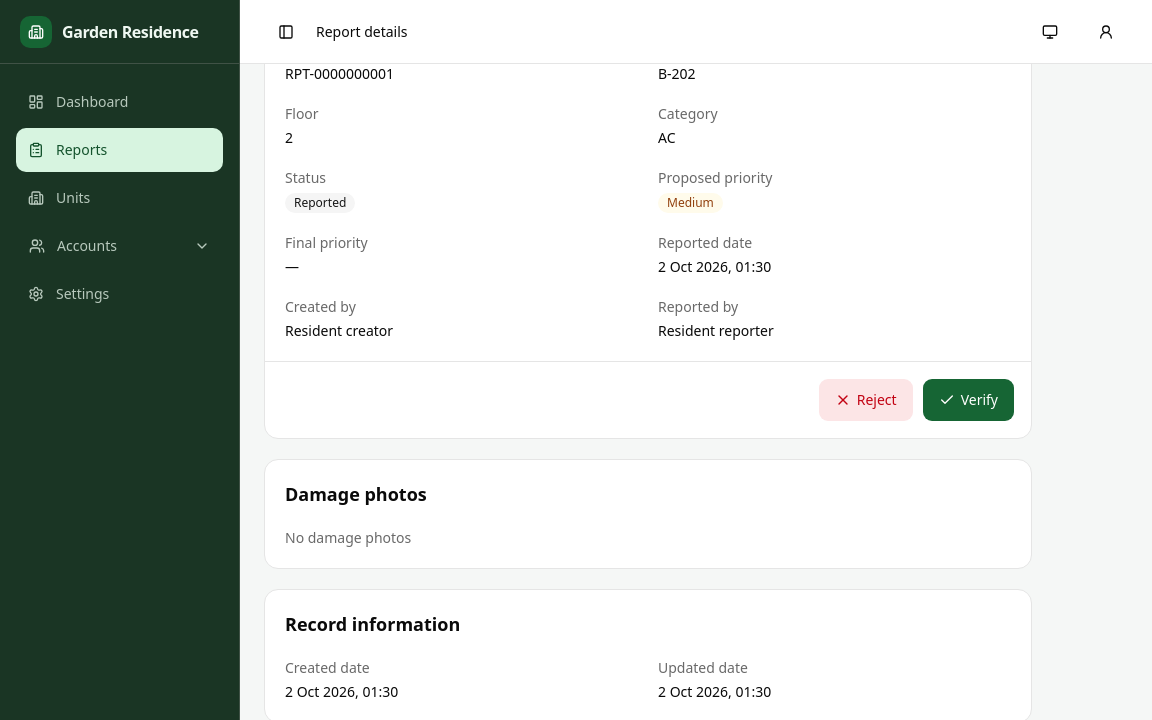
Scenario: submits Verify, updates details, retains source state and focuses the heading
The width and height of the screenshot is (1152, 720).
(page scrolled)
Click the button "Verify". click: x=968, y=400
box: x1=922 y1=378 x2=1015 y2=422
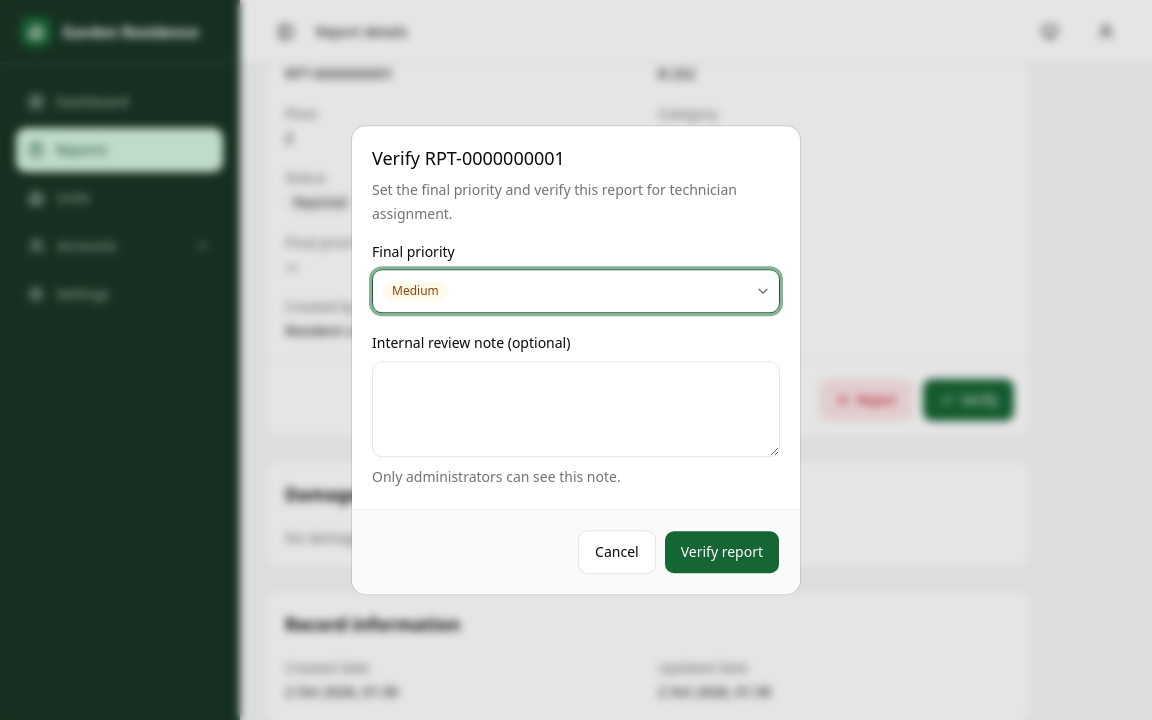
Click the dropdown labelled "Medium ▼". click: x=415, y=292
box: x1=372 y1=270 x2=780 y2=314
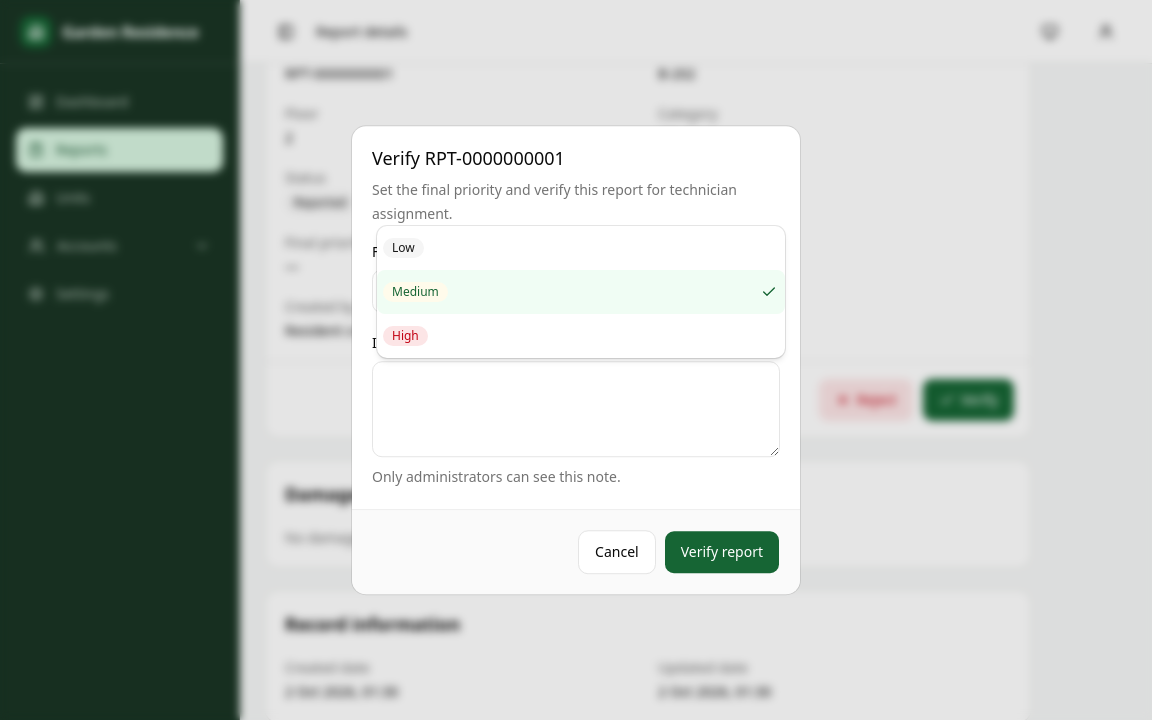
Click the option "High". click: x=405, y=336
box: x1=383 y1=326 x2=428 y2=346
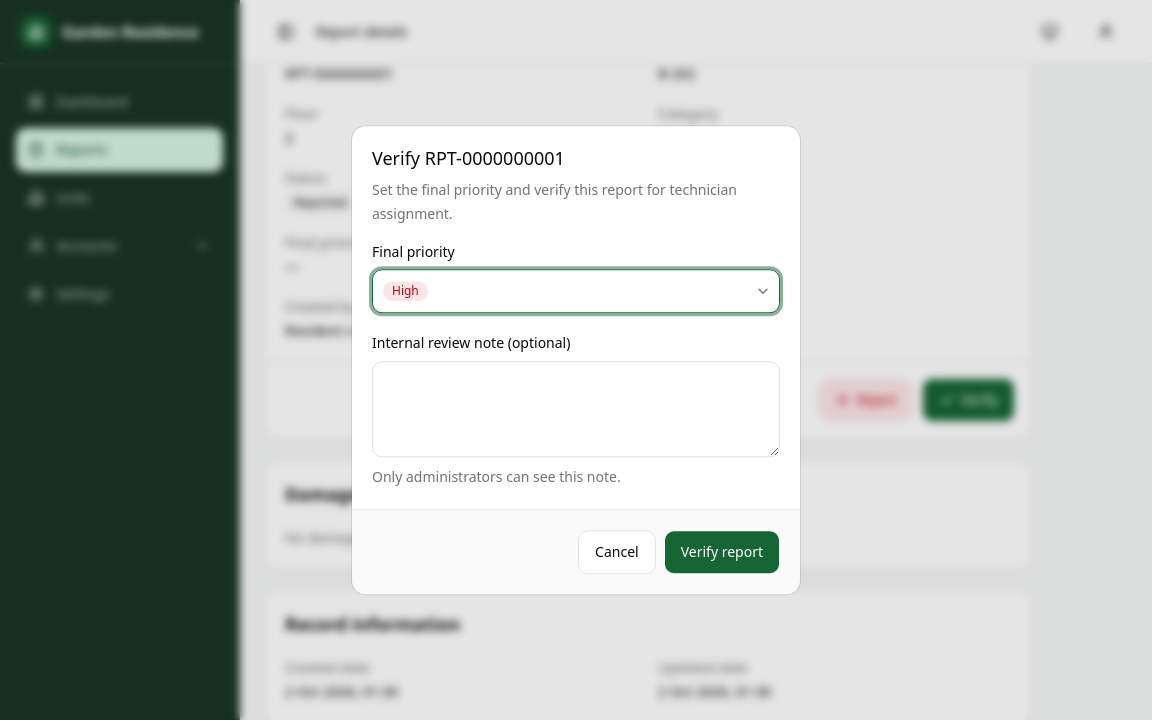
Type "  Internal note.  " into the text box labelled "Internal review note (optional)". click: x=576, y=409
box: x1=372 y1=361 x2=780 y2=457
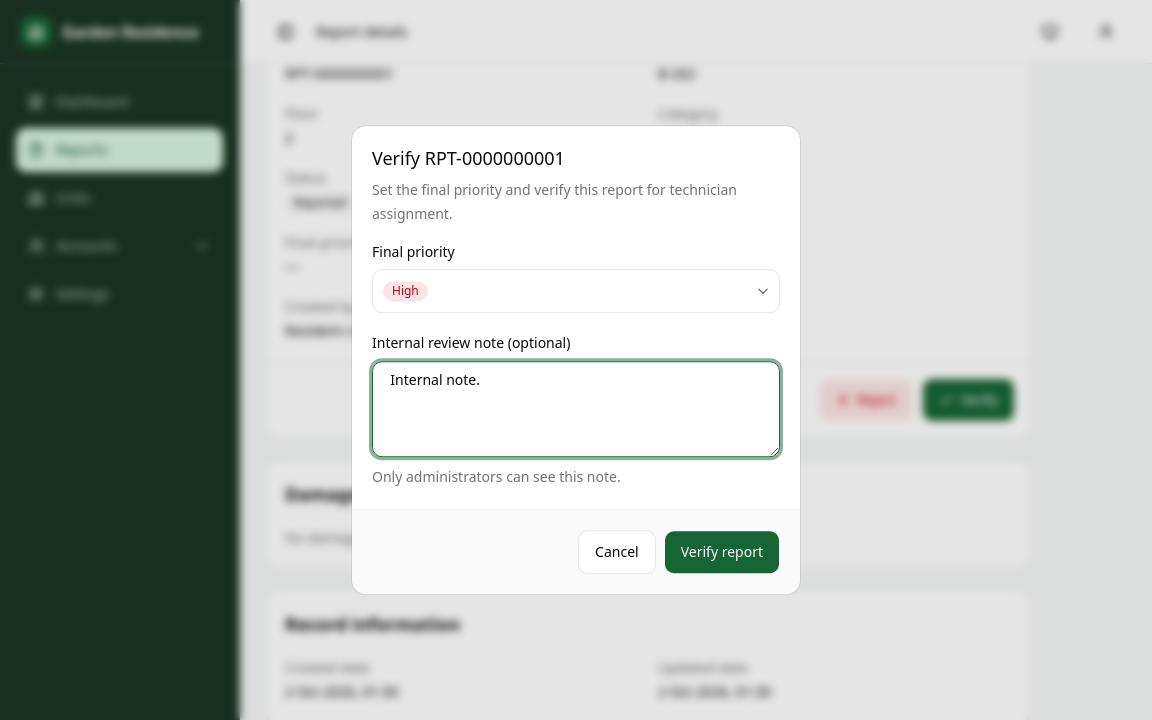
Click the button "Verify report". click: x=722, y=552
box: x1=664 y1=530 x2=780 y2=574
(page scrolled)
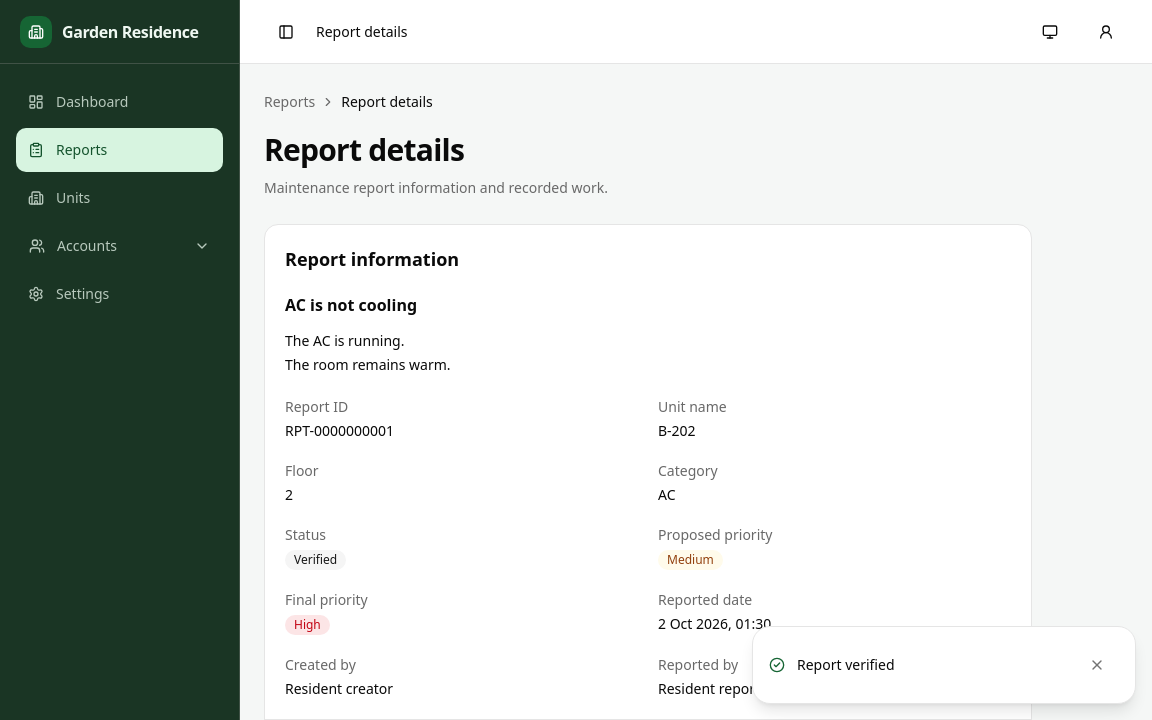
expect the heading "Verify RPT-0000000001" is gone: met
expect the text "Verified" is shown: met, box x1=285 y1=550 x2=346 y2=570
expect the heading "Report verified" is shown: met, box x1=797 y1=655 x2=894 y2=674
